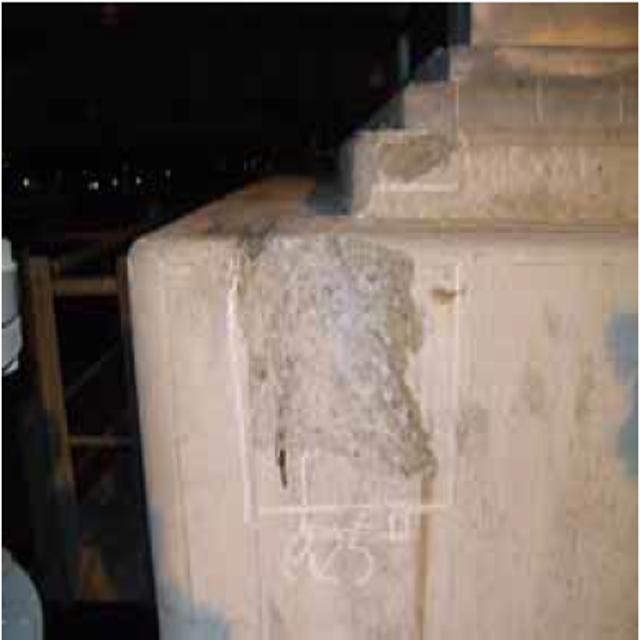spalling: (236, 210, 438, 539), (372, 104, 468, 184)
